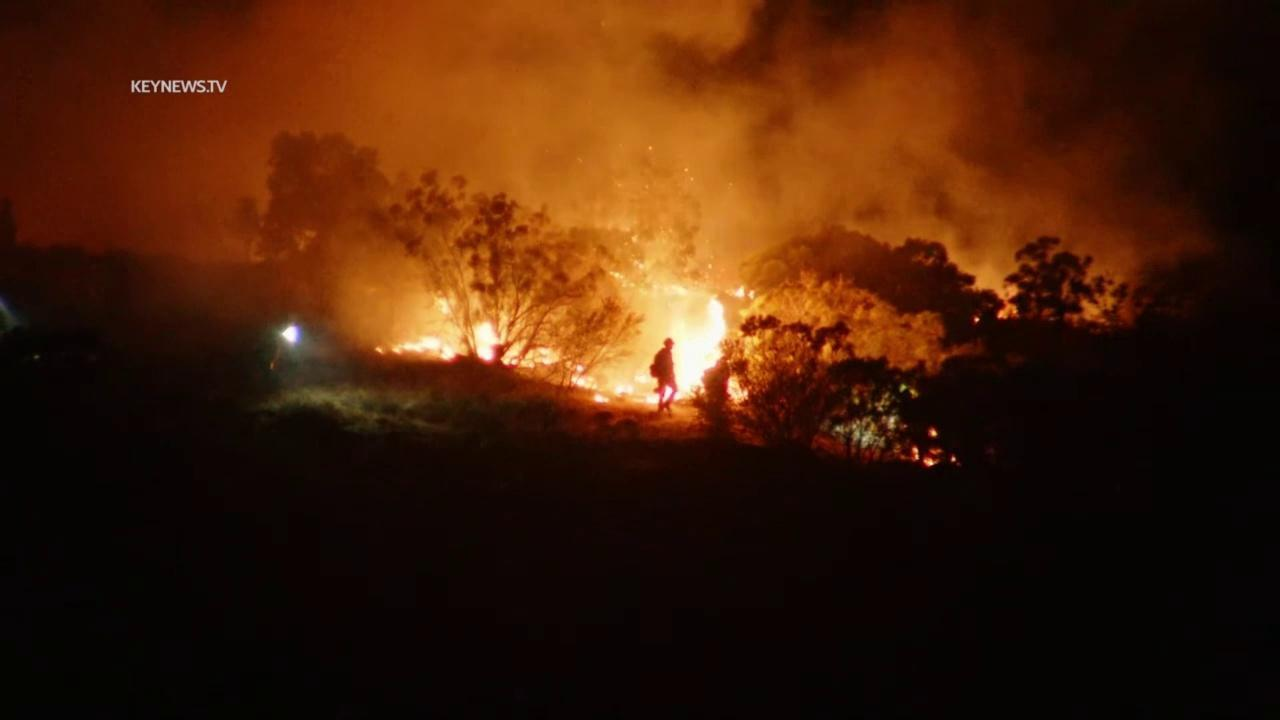fire: (644, 294, 725, 403), (373, 334, 456, 363), (469, 318, 506, 362), (921, 445, 945, 470), (566, 362, 588, 389), (896, 444, 920, 461), (733, 284, 757, 300), (437, 293, 452, 315), (614, 383, 635, 397), (593, 390, 609, 403), (927, 425, 939, 439), (949, 454, 960, 467), (971, 314, 982, 325)
smoke: (0, 0, 1228, 411)
